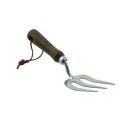Fork: (20, 22, 119, 96)
